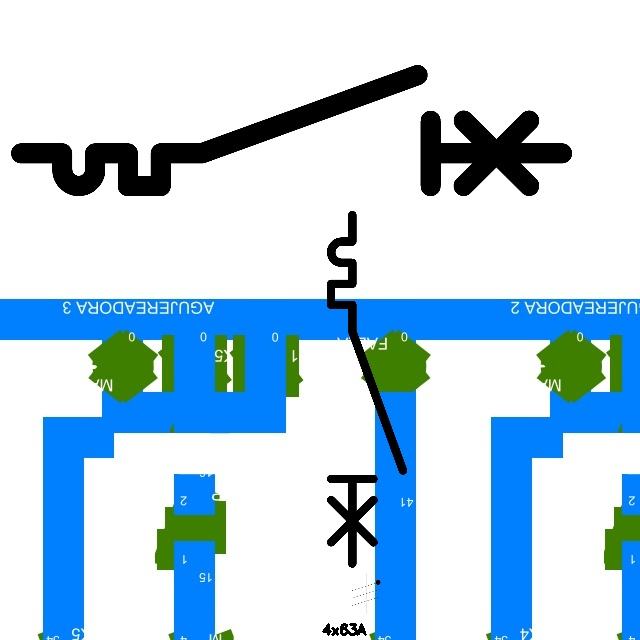interruptor_termomagnetico: (7, 61, 576, 200), (322, 206, 412, 573)
